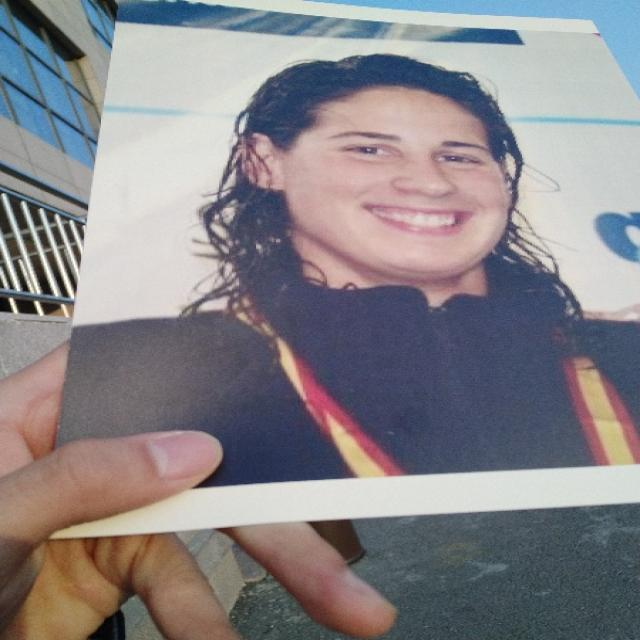photo: (38, 2, 640, 546)
